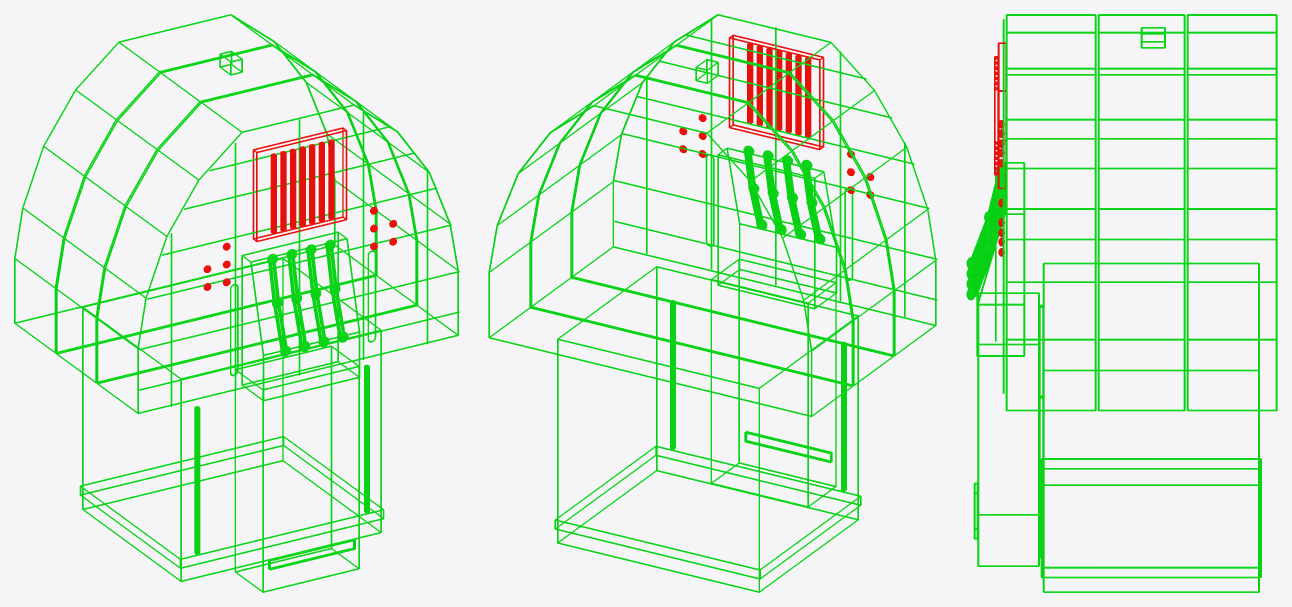
Rendered from improved-sensors-highlight-calibration-indicators.glb.
3 views of the same model, side by side, from view 1: azimuth 30°, elevation 25°; view 2: azimuth 150°, elevation 25°; view 3: azimuth 270°, elevation 25° (orthographic). The views are drawn at different scales.
Parts seen in each view (by area): view 1: chassis technical wire, data-collector technical wire, calibration-indicators technical wire, shielding-coils technical wire; view 2: chassis technical wire, data-collector technical wire, calibration-indicators technical wire, shielding-coils technical wire; view 3: chassis technical wire, data-collector technical wire, calibration-indicators technical wire.
Part boxes in pixels (x1,y1,x2,y2): chassis technical wire: [14, 14, 459, 581]; data-collector technical wire: [234, 231, 360, 592]; calibration-indicators technical wire: [203, 127, 396, 290]; shielding-coils technical wire: [230, 250, 376, 376]; chassis technical wire: [488, 14, 937, 592]; data-collector technical wire: [710, 145, 837, 506]; calibration-indicators technical wire: [679, 34, 874, 198]; shielding-coils technical wire: [705, 154, 853, 280]; chassis technical wire: [1002, 14, 1277, 592]; data-collector technical wire: [966, 162, 1039, 566]; calibration-indicators technical wire: [994, 42, 1005, 256].
Bounding box in the file's own units: 2.08 × 2.88 × 1.59.
